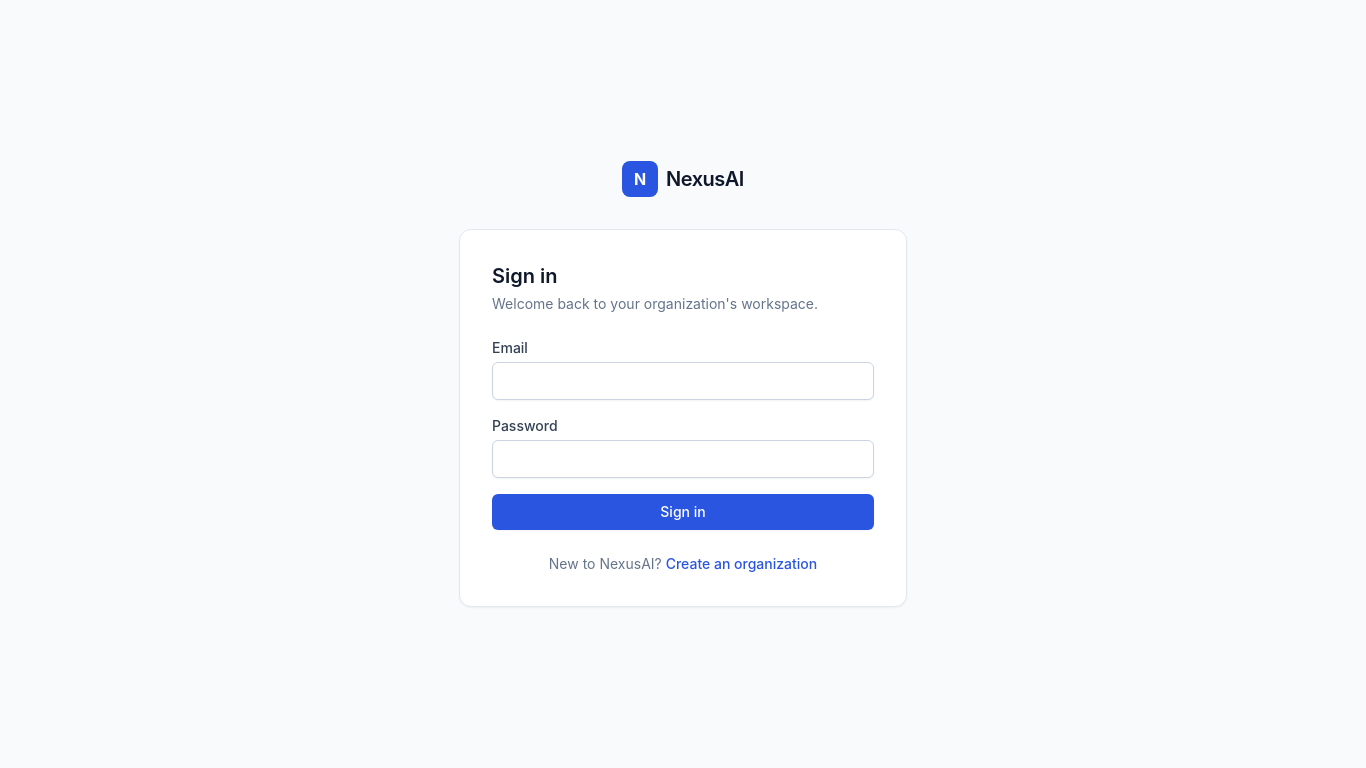
Scenario: Authentication › signs in and shows the dashboard with the user's organization
Type "asha@acme.com" into the field labelled "Email".
click(683, 381); type("asha@acme.com")  # box [492,362,874,400]
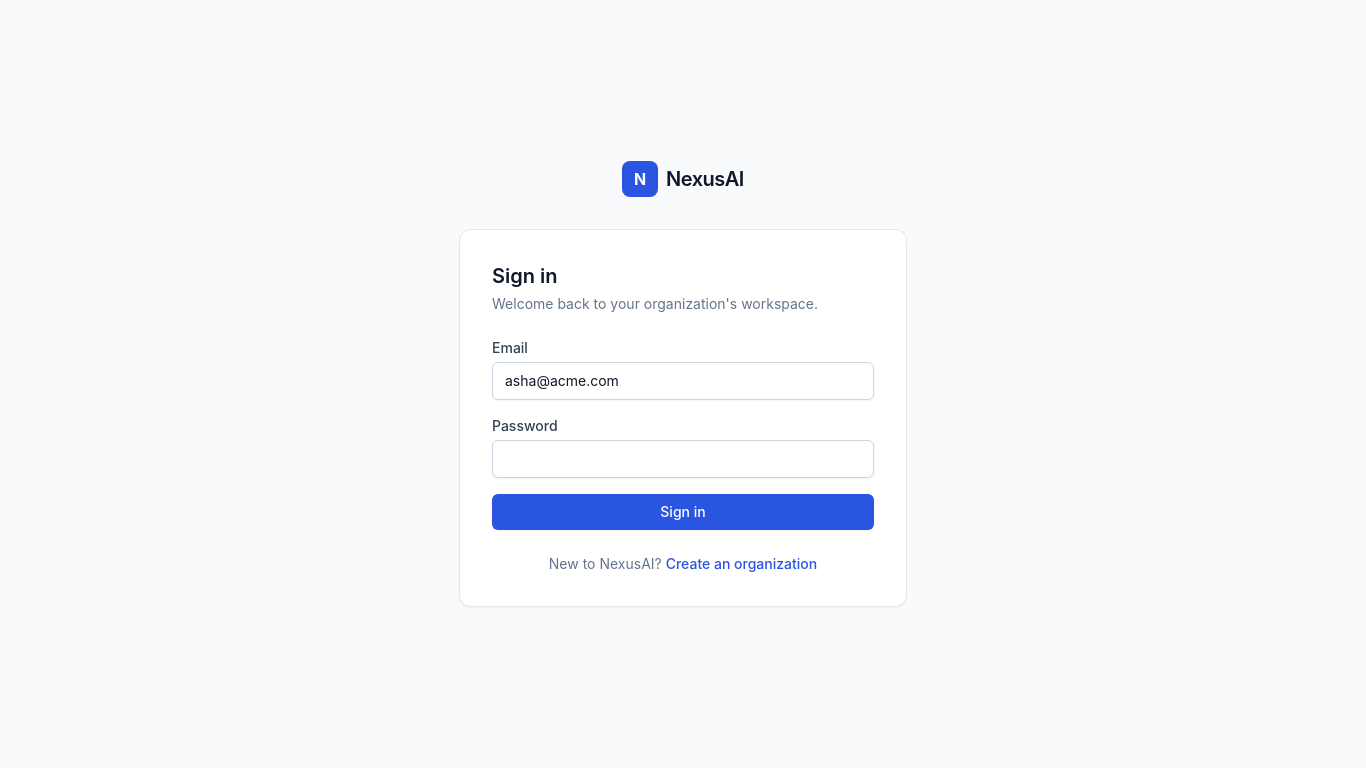
Type "Correct-Horse-Battery-9" into the password field labelled "Password".
click(683, 459); type("Correct-Horse-Battery-9")  # box [492,440,874,478]
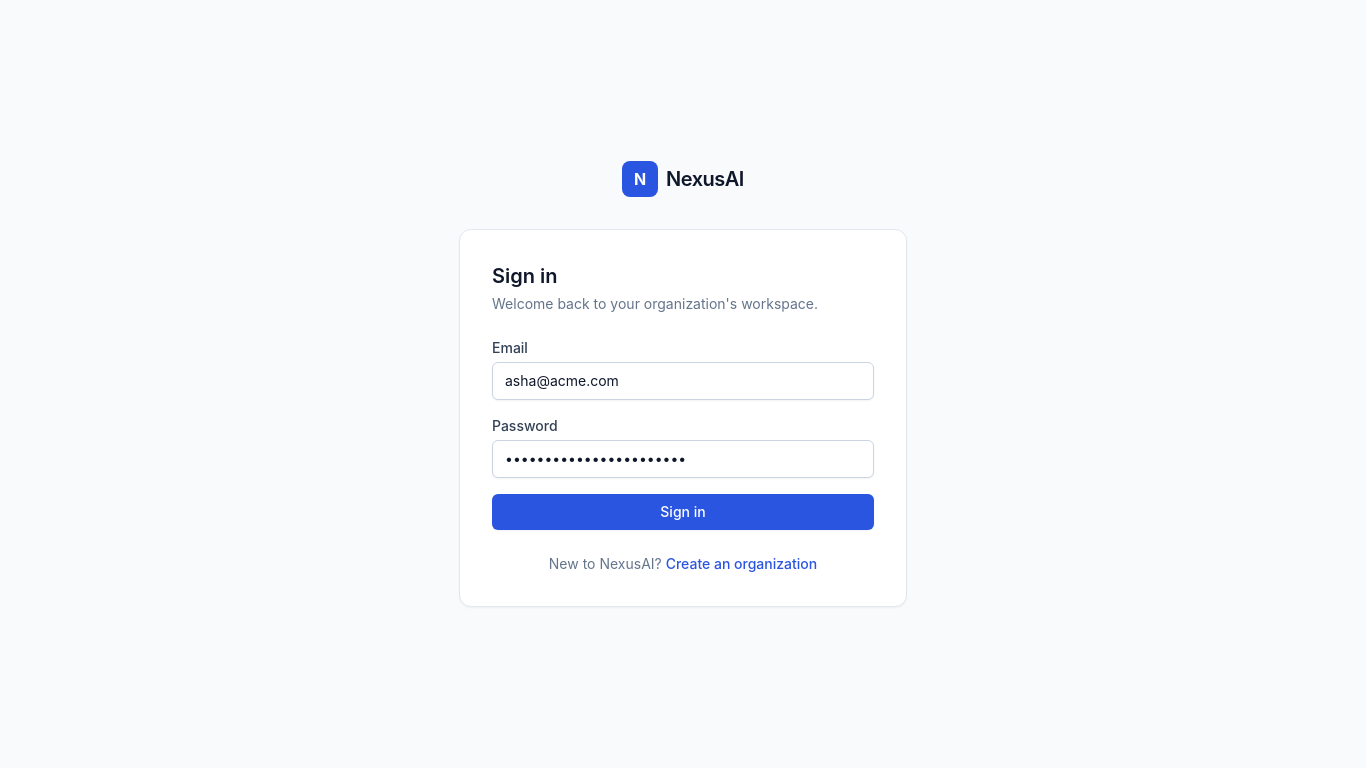
Click the button "Sign in".
click(683, 512)  # box [492,494,874,530]
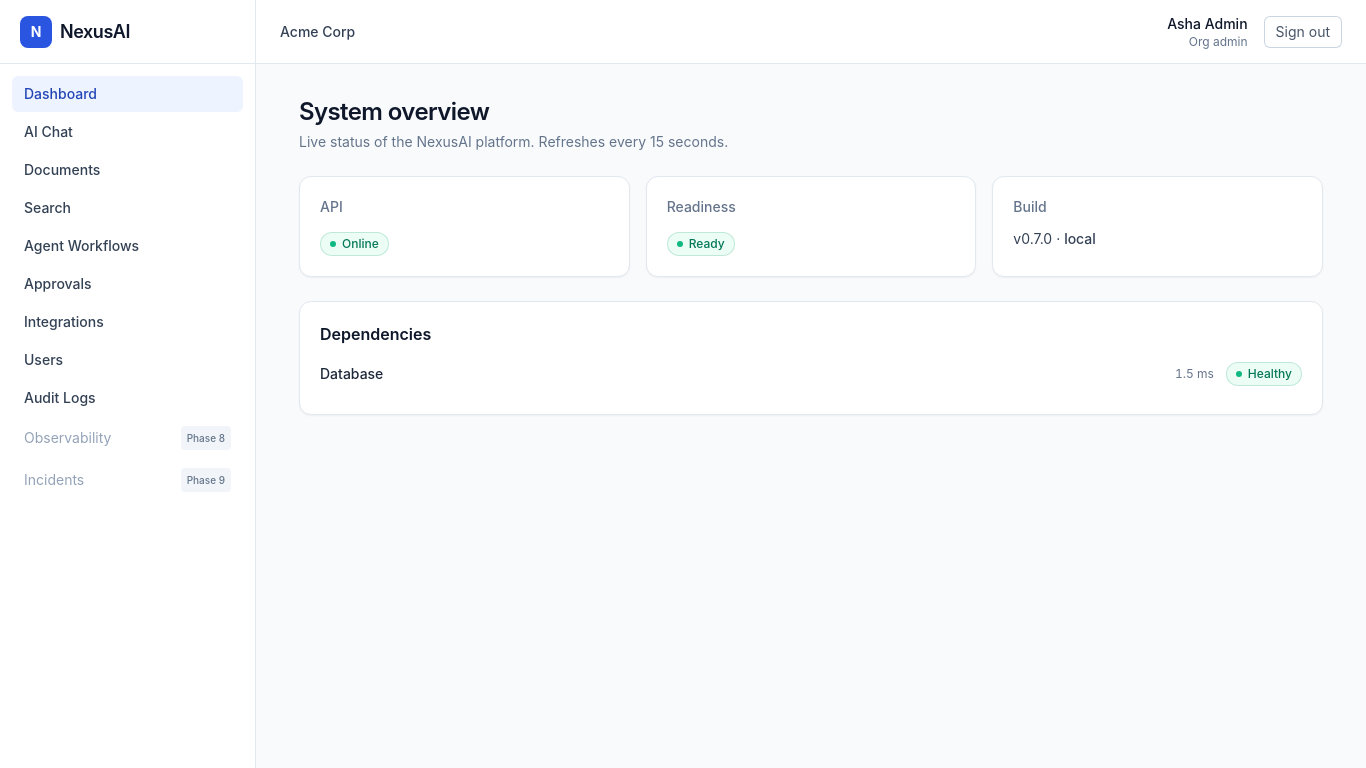
Expected: the heading "System overview" is shown, [299,97,489,126]
Expected: the text "Acme Corp" is shown, [280,22,355,42]
Expected: the text "Asha Admin" is shown, [1167,14,1248,34]
